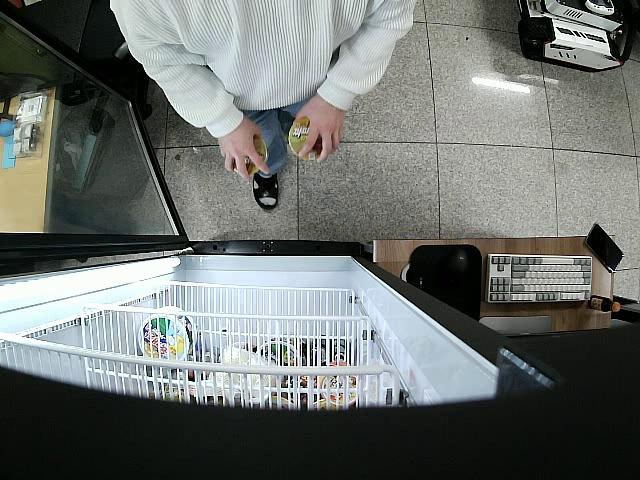00_hand: (291, 97, 343, 165), (217, 117, 271, 181)
04_chapagetti_S: (287, 119, 324, 161), (231, 137, 269, 175)
